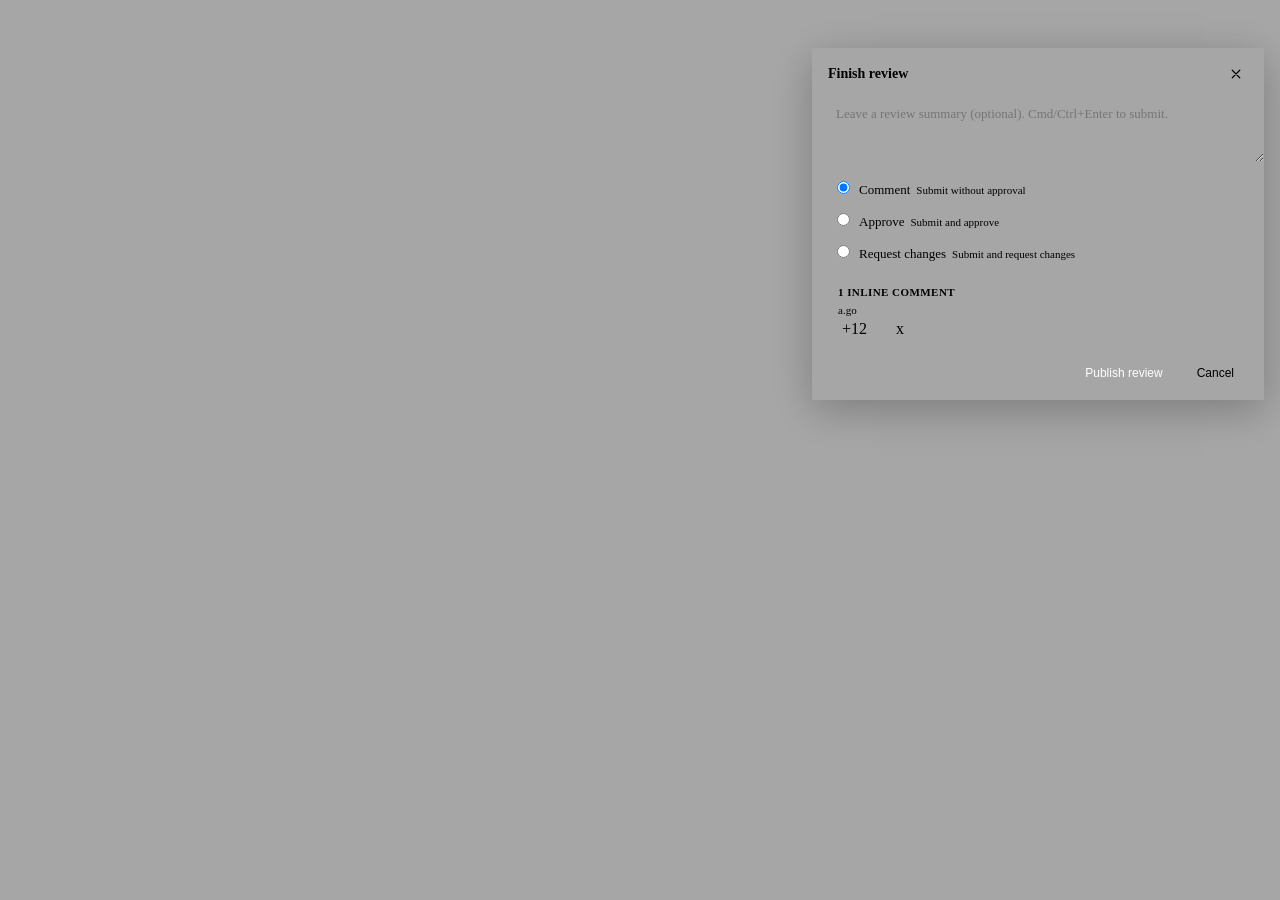
it: ReviewPanel publish (GitHub) › shows the publish error and keeps the panel open
The image size is (1280, 900).
Click the button "Publish review" at (1124,373), box [1071,360,1177,386]
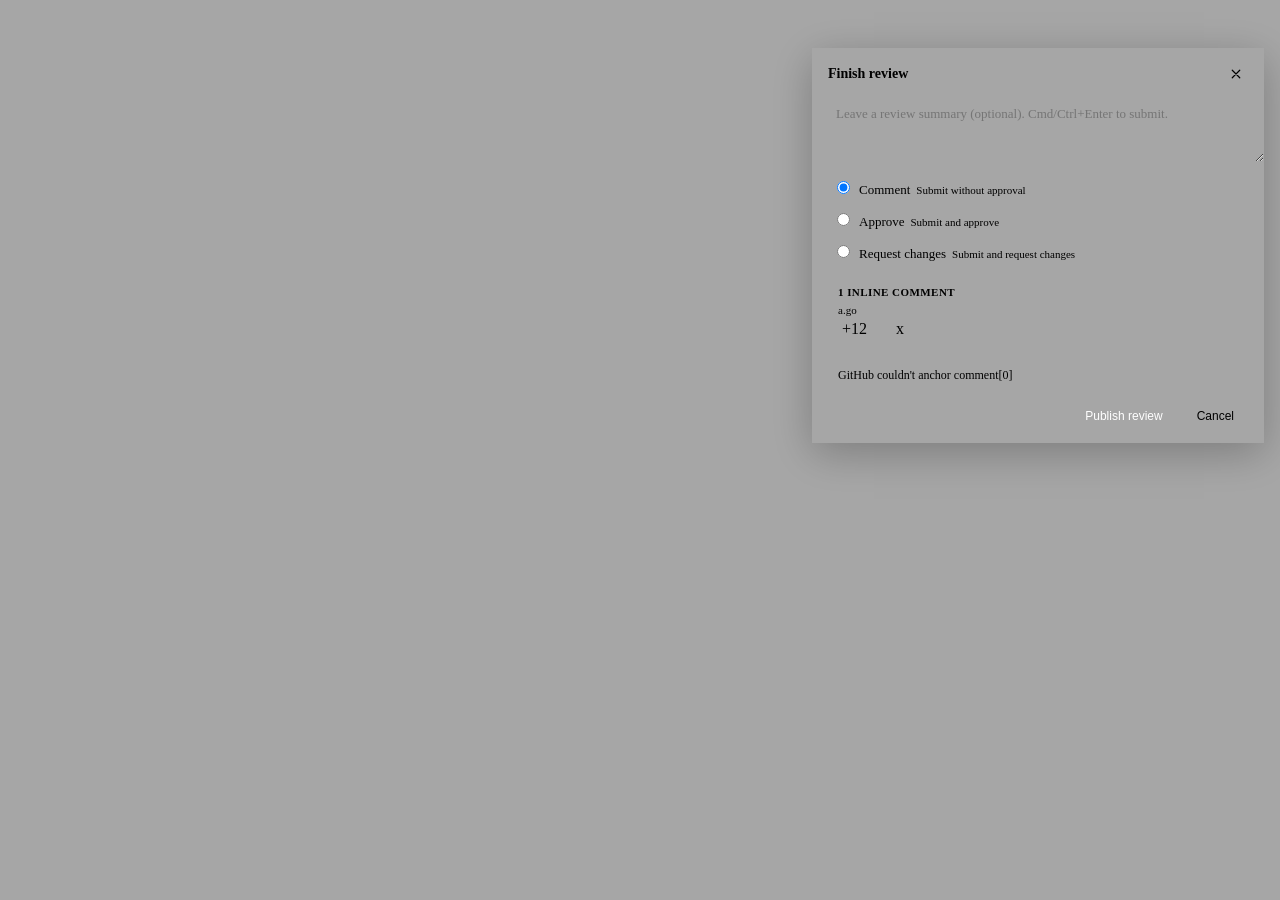
Check: the text "GitHub couldn't anchor comment[0]" is shown, box [838,368,1012,382]
